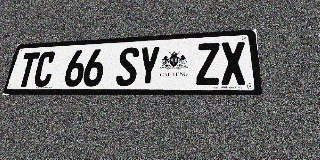6: (63, 50, 88, 87), (82, 49, 106, 86)
C: (32, 51, 57, 87)
S: (115, 47, 140, 86)
T: (15, 52, 40, 87)
X: (220, 41, 247, 85)
Y: (137, 46, 161, 86)
Z: (196, 43, 220, 85)
